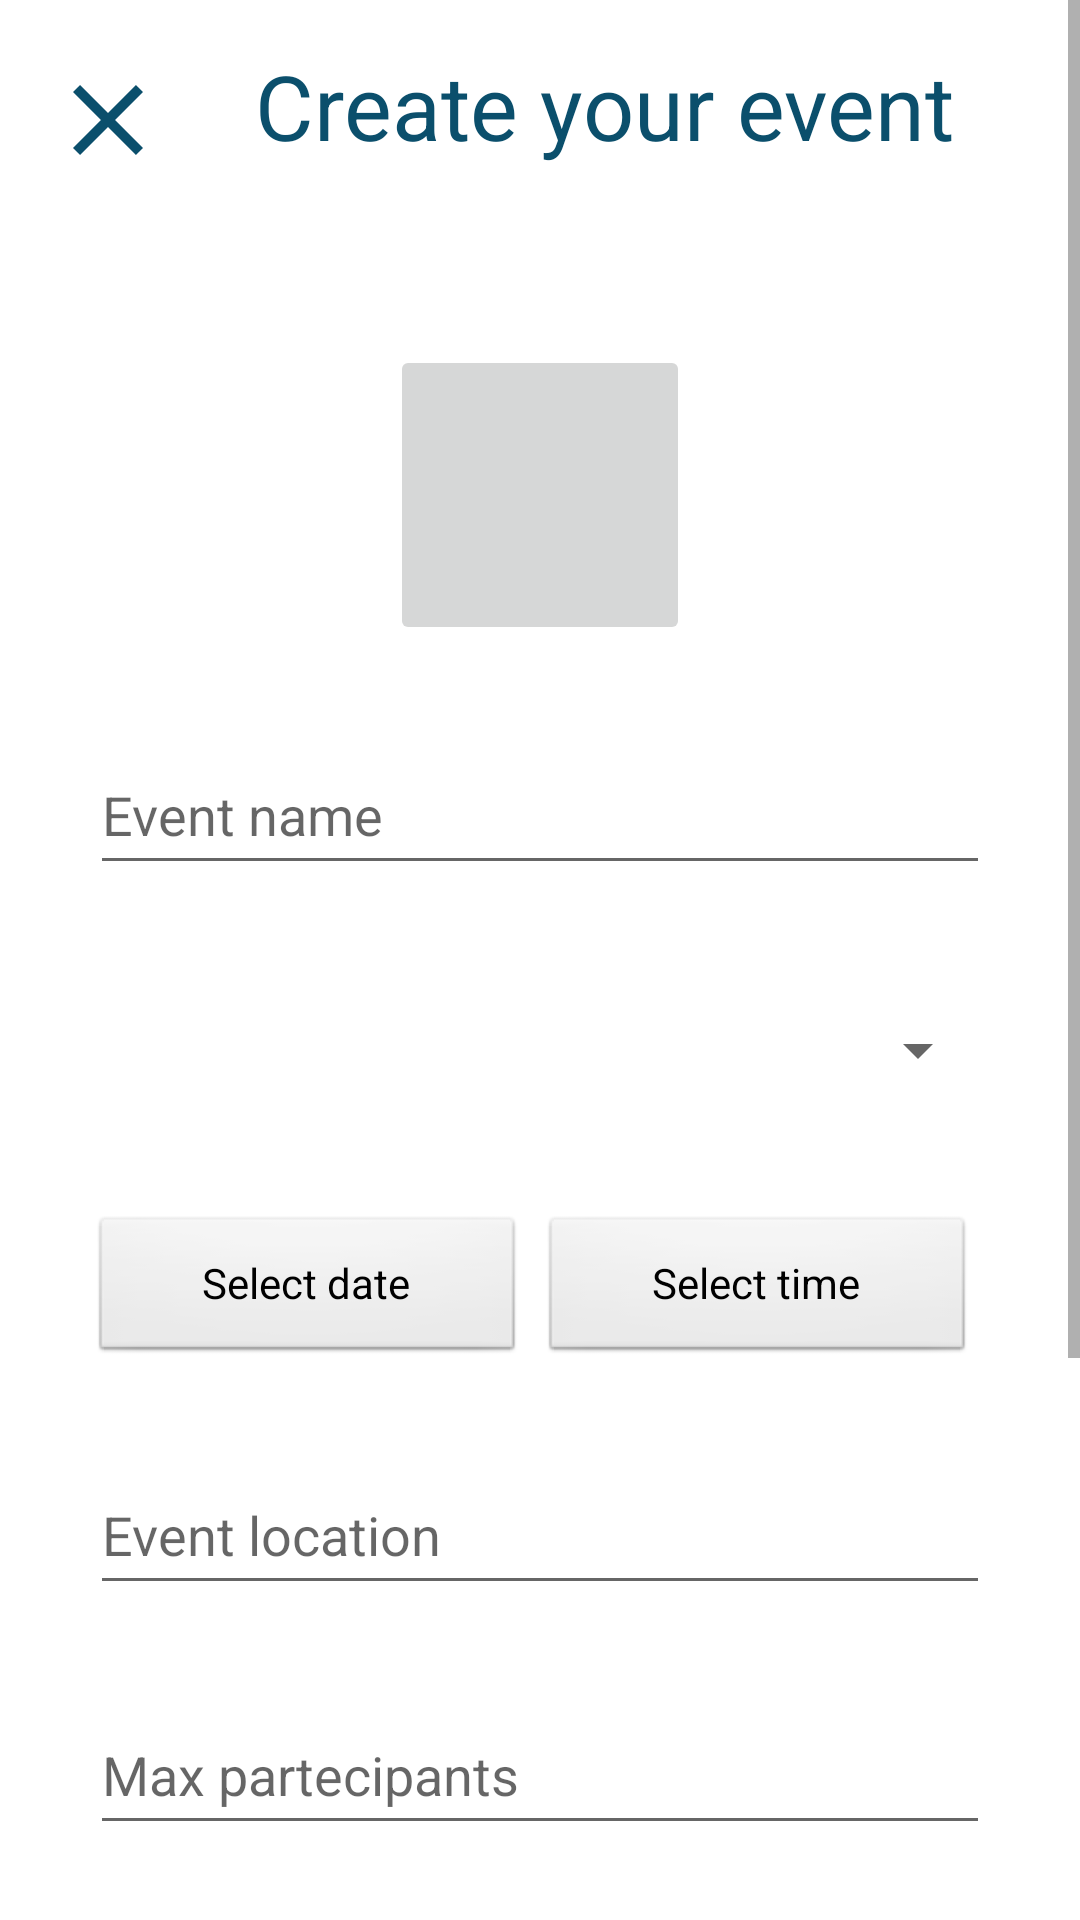

Screen size 1080px x 1920px. Icon name, then its box in pixels as (x1, y1, x2, y2):
close: (73, 85, 143, 155)
